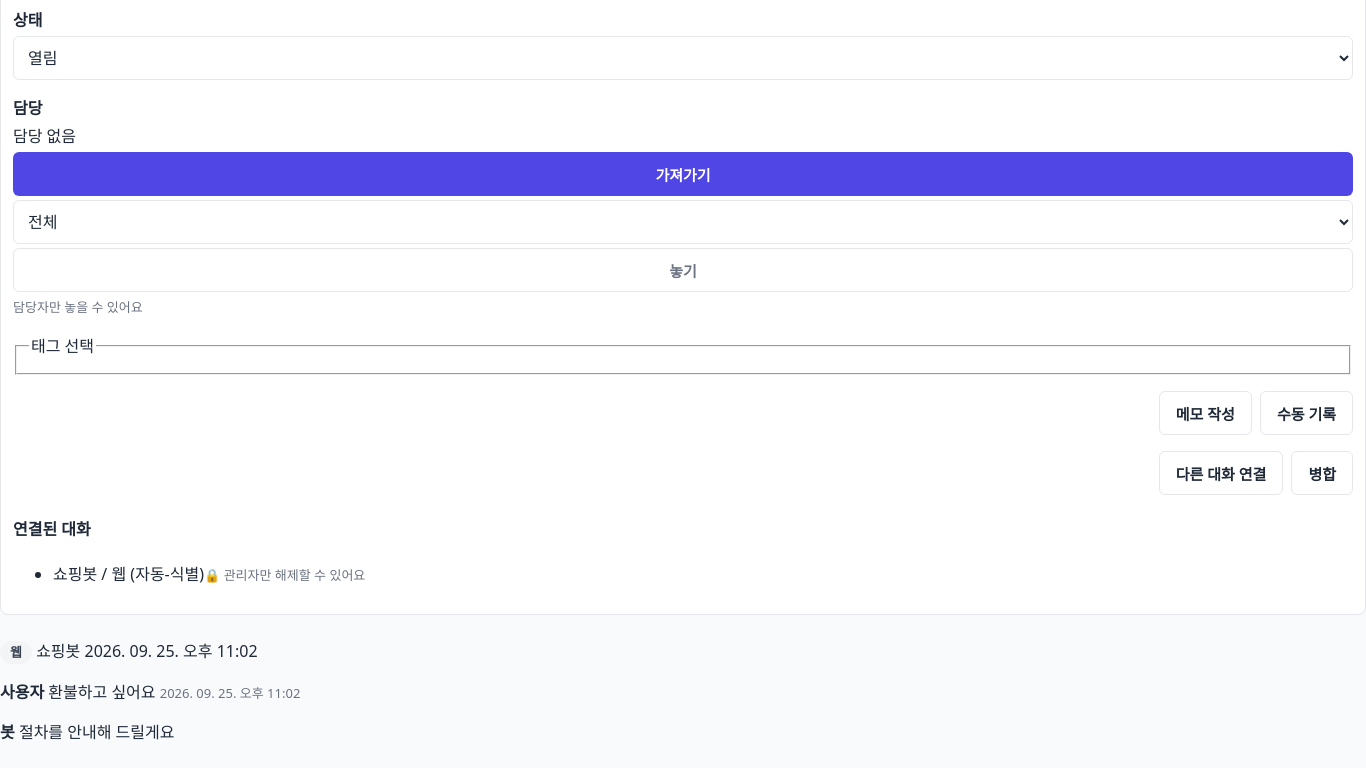
Test: InboxThreadDetailPage(OI-2) › 병합 대상이 다른 로그인 회원(IDENTIFIED)이면 409 CUSTOMER_MERGE_FORBIDDEN 인라인 오류를 보여준다
(page scrolled)
Click the button "병합".
click(1322, 473)  # box [1291, 451, 1353, 495]
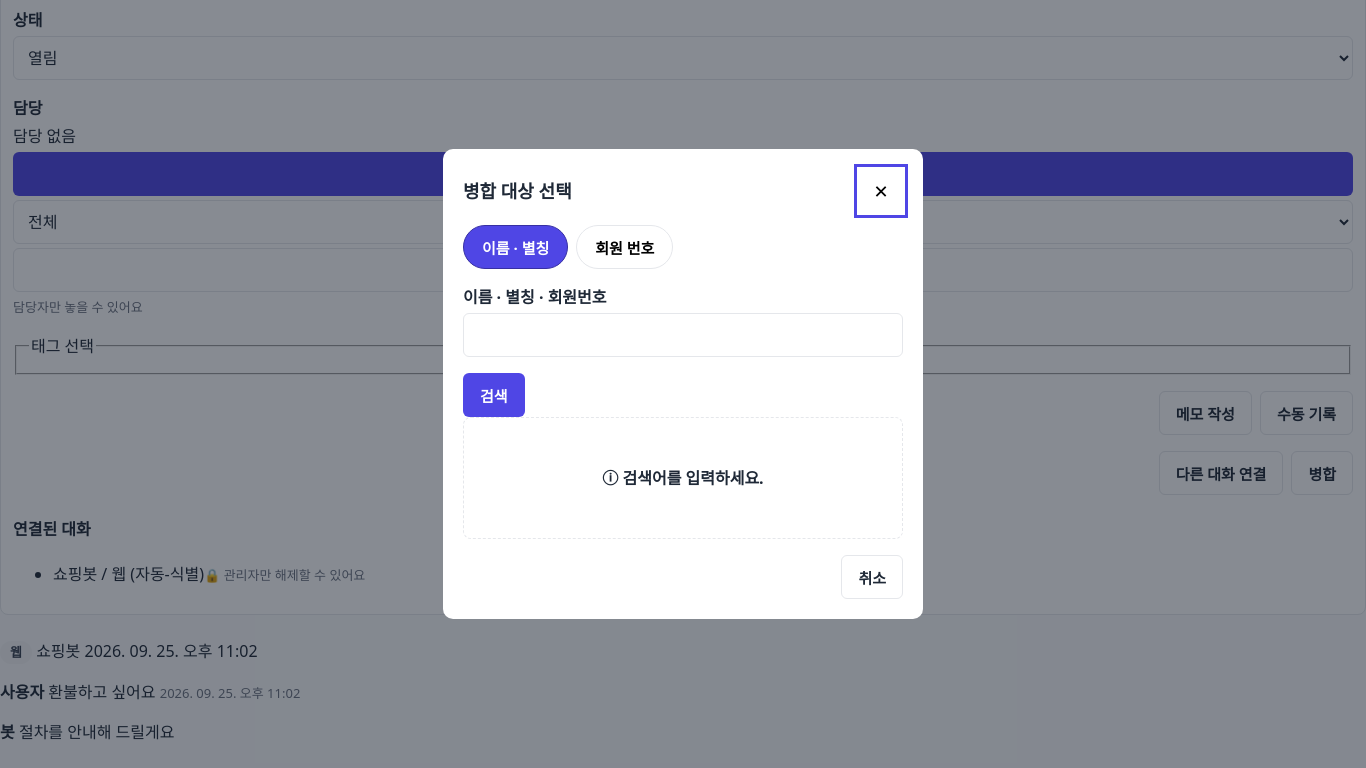
Result: the heading "병합 대상 선택" is shown at [463, 178, 572, 204]
Type "최철수" into the field labelled "이름 · 별칭 · 회원번호".
click(683, 335); type("최철수")  # box [463, 313, 903, 357]
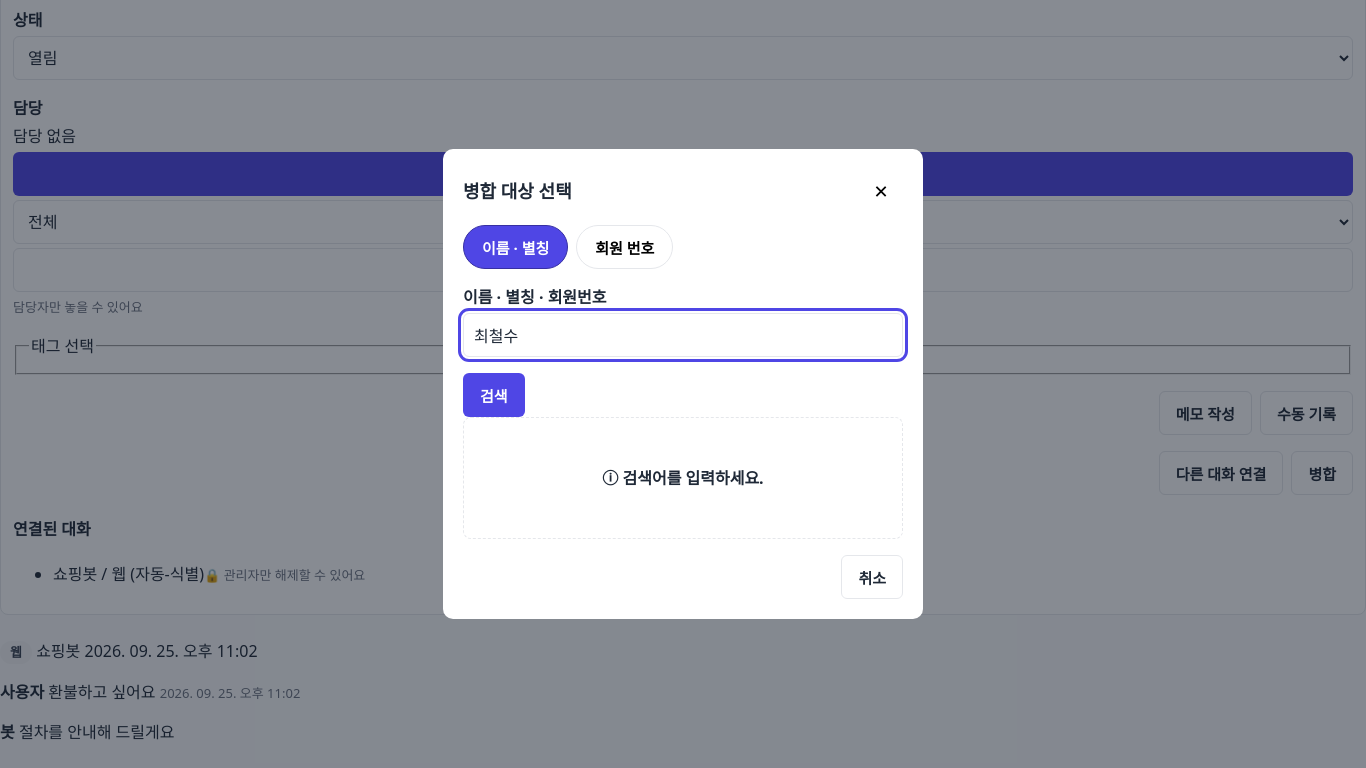
Click the button "검색".
click(494, 395)  # box [463, 373, 525, 417]
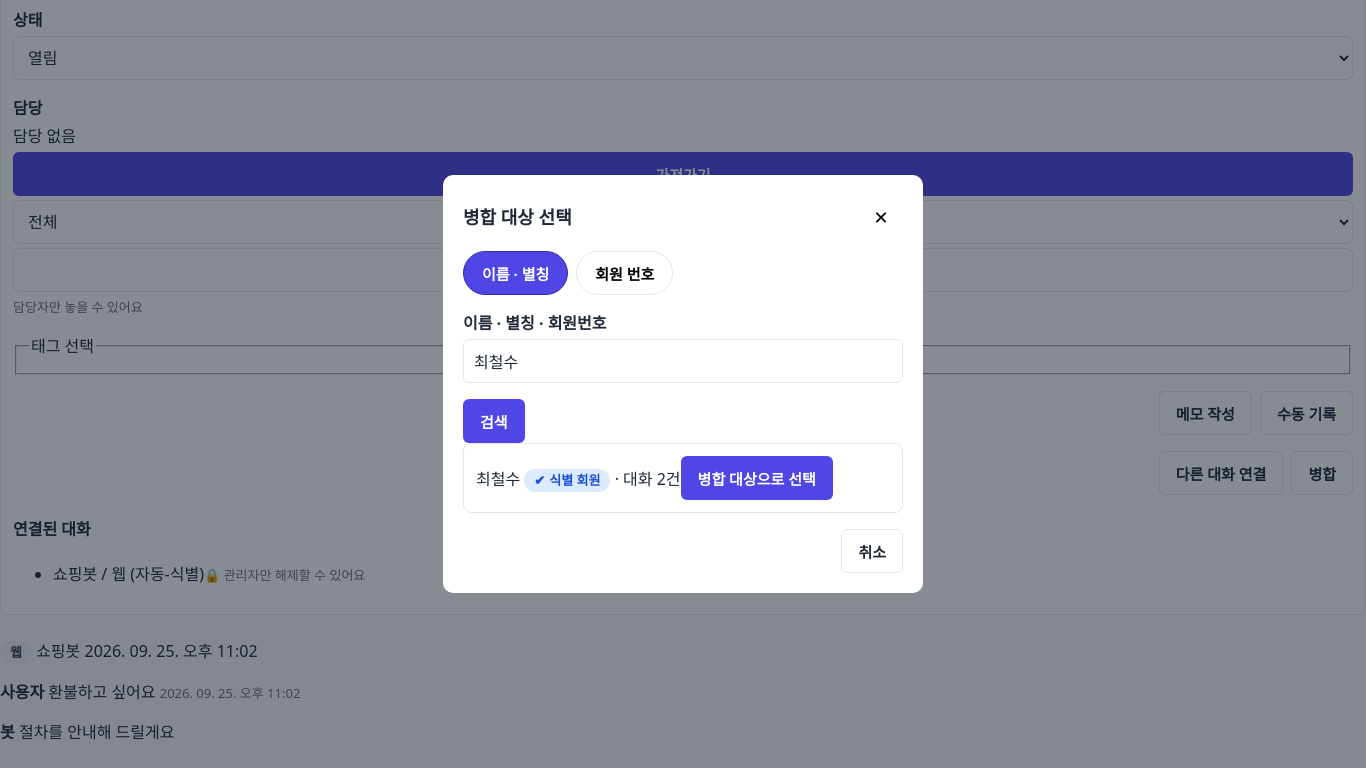
Click the button "병합 대상으로 선택".
click(757, 478)  # box [681, 456, 833, 500]
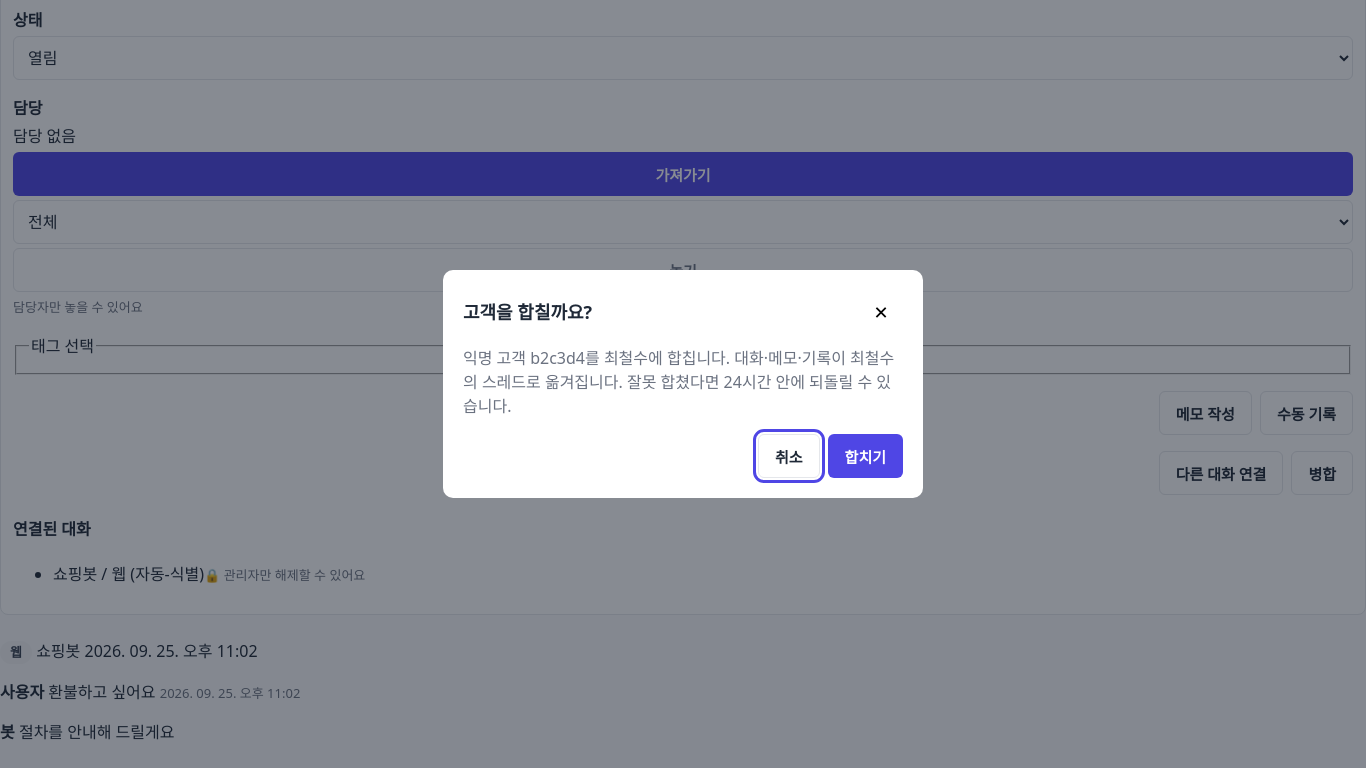
Result: the heading "고객을 합칠까요?" is shown at [463, 298, 592, 326]
Click the button "합치기".
click(865, 456)  # box [828, 434, 903, 478]
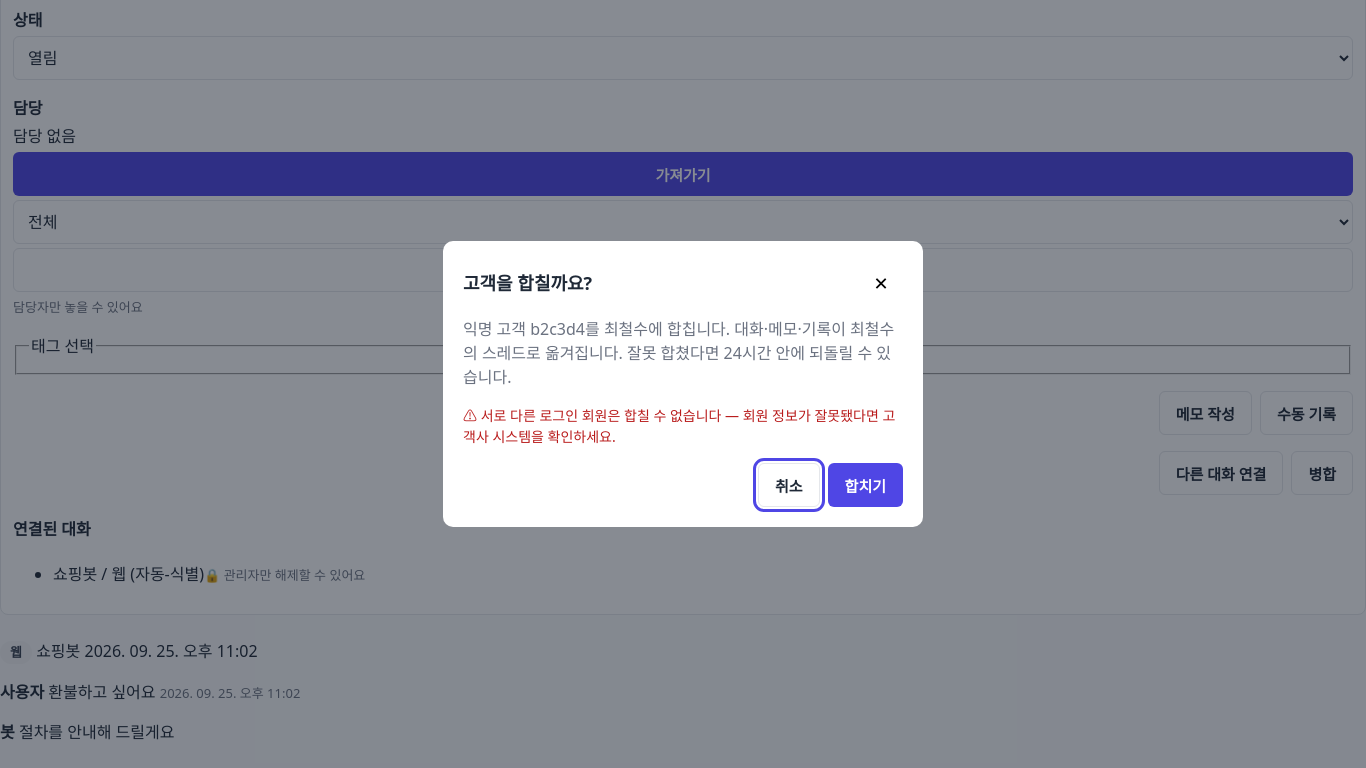
Result: the text "서로 다른 로그인 회원은 합칠 수 없습니다 — 회원 정보가 잘못됐다면 고객사 시스템을 확인하세요." is shown at [463, 406, 895, 446]
